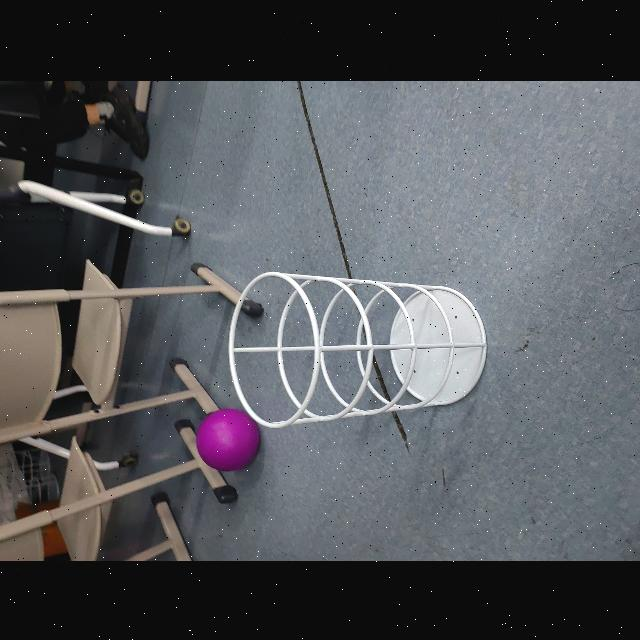S: (228, 270, 490, 430)
